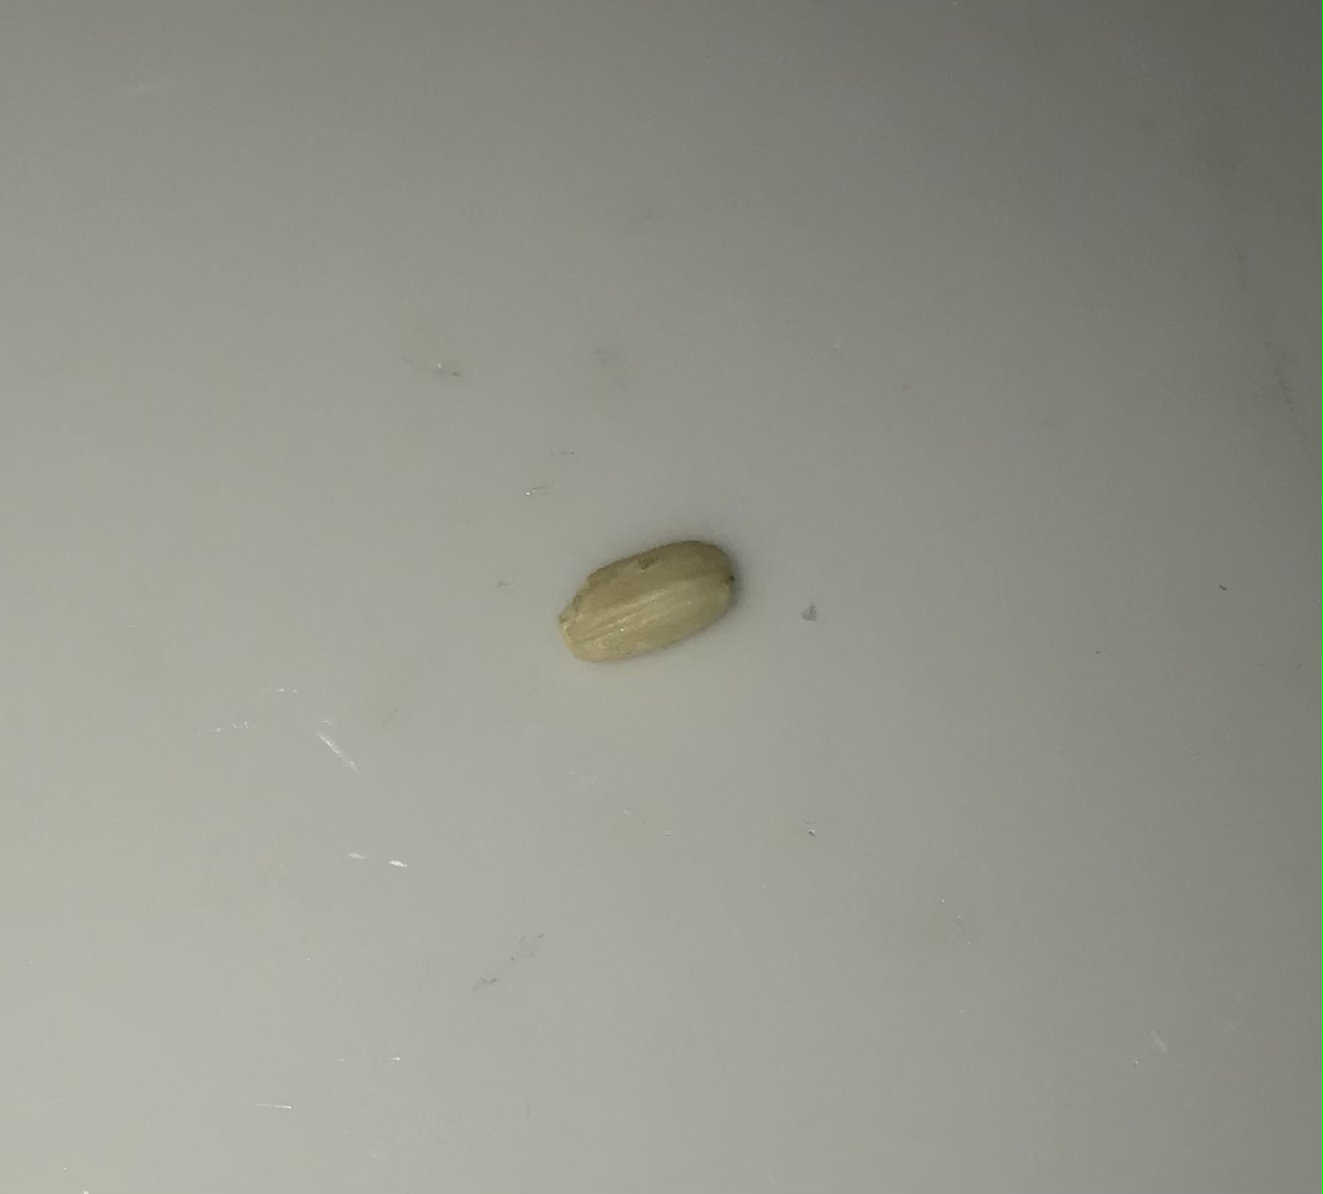Gao Lut Bac: (557, 532, 750, 685)
